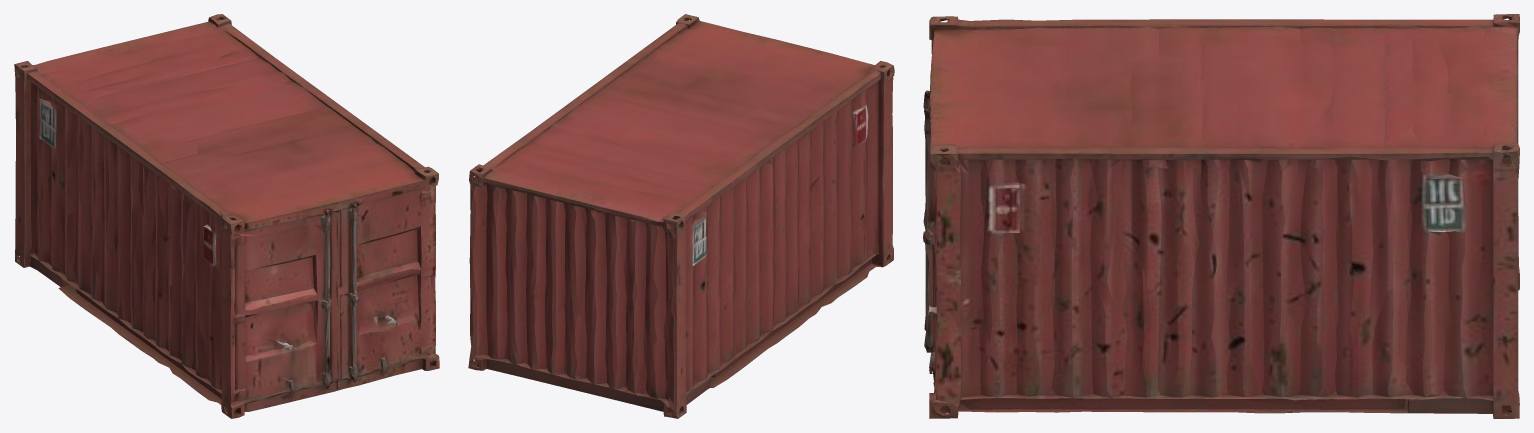
Rendered from container.glb.
The picture shows the model from 3 angles, left to right: view 1: azimuth 30°, elevation 25°; view 2: azimuth 150°, elevation 25°; view 3: azimuth 270°, elevation 25°; orthographic projection. The views are drawn at different scales.
Visible parts, largest first — view 1: container; view 2: container; view 3: container.
Part boxes in pixels (x1,y1,x2,y2): container: [14, 14, 439, 418]; container: [468, 14, 894, 418]; container: [923, 14, 1519, 418].
Bounding box in the file's own units: 2.44 × 2.2 × 4.44.
1 material, 1 textured.
